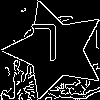L: (30, 25, 59, 70)
